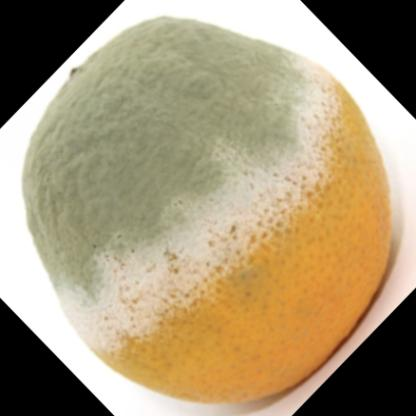rotten: (16, 18, 393, 412)
